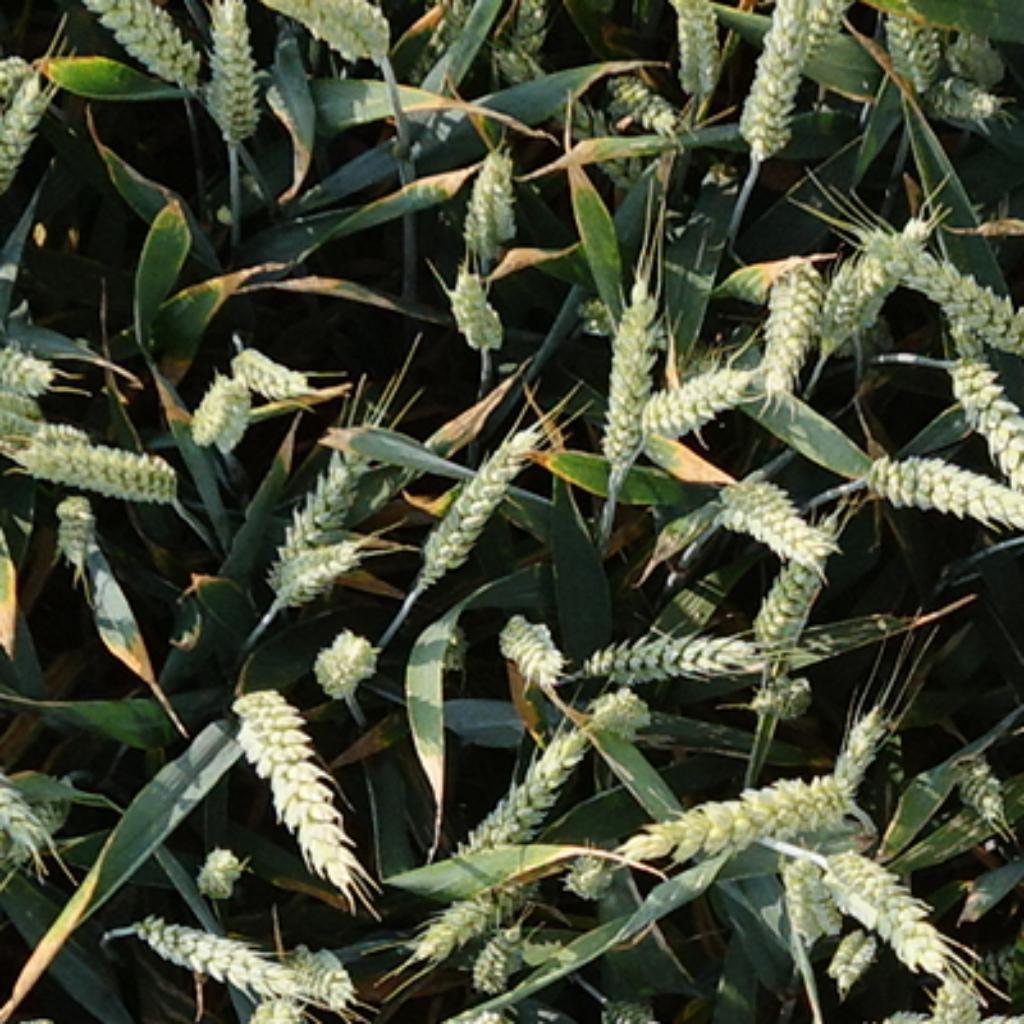0-0: (227, 680, 368, 885), (611, 755, 860, 865), (432, 716, 596, 855), (404, 414, 542, 578), (870, 215, 1024, 358), (258, 424, 378, 596), (816, 844, 954, 985), (732, 2, 844, 158), (849, 430, 1024, 522), (12, 412, 192, 499), (814, 209, 924, 348), (596, 288, 673, 475), (931, 348, 1024, 499), (120, 903, 286, 985), (64, 2, 209, 94), (701, 460, 832, 560), (409, 862, 537, 957), (576, 619, 765, 683), (629, 345, 752, 437), (744, 537, 844, 640), (752, 248, 826, 386), (199, 2, 268, 143), (2, 46, 64, 199), (455, 135, 527, 256), (9, 761, 81, 876), (258, 2, 394, 61), (268, 532, 366, 604), (824, 698, 896, 796), (184, 355, 261, 442), (601, 71, 691, 138), (440, 256, 506, 345), (222, 330, 312, 394), (266, 934, 353, 1000), (919, 66, 1008, 130), (778, 849, 842, 936), (307, 619, 384, 691), (668, 2, 727, 94), (880, 2, 939, 92), (468, 913, 540, 985), (956, 759, 1022, 834), (2, 401, 87, 458), (46, 486, 104, 563), (498, 617, 565, 680), (742, 660, 814, 714), (560, 837, 624, 896), (583, 680, 652, 732), (2, 332, 58, 394), (501, 2, 558, 58), (949, 33, 1006, 87), (829, 924, 878, 985), (192, 837, 245, 893), (238, 985, 309, 1024), (593, 995, 680, 1024), (2, 48, 46, 102), (928, 993, 995, 1024)
